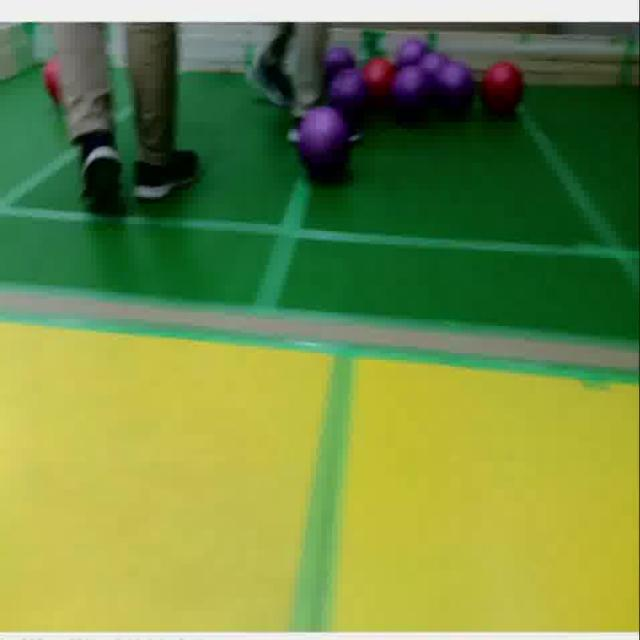purple_ball: (297, 109, 348, 189), (394, 67, 434, 121), (332, 79, 370, 130), (440, 63, 471, 113), (322, 48, 353, 79), (417, 52, 449, 80), (400, 42, 432, 70)
red_ball: (480, 60, 526, 121), (362, 59, 394, 113)
